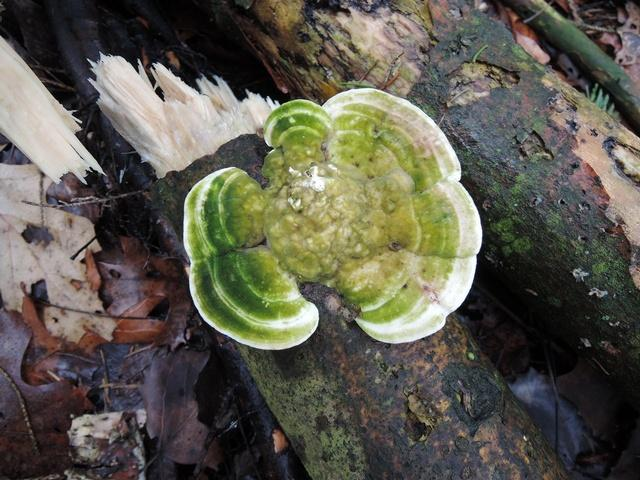Non-edible Mushroom: (181, 85, 483, 350)
